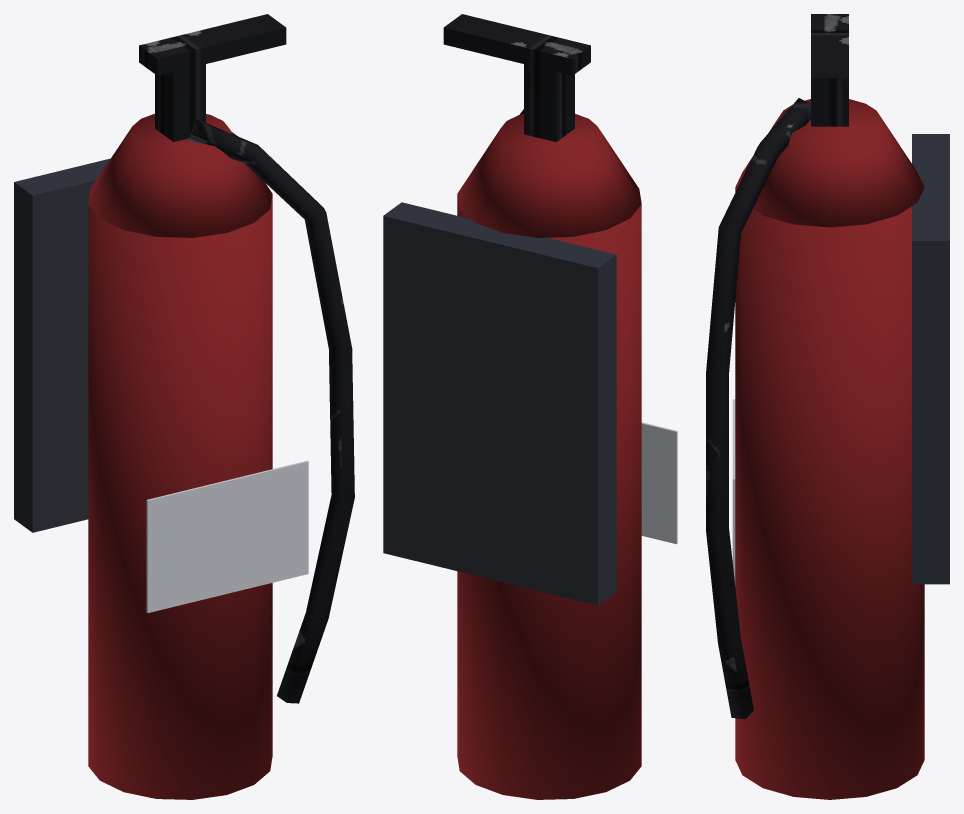
Rendered from Deco_Extinguisher.001.gltf.
3 renders of one model, left to right at view 1: azimuth 30°, elevation 25°; view 2: azimuth 150°, elevation 25°; view 3: azimuth 270°, elevation 25°, orthographic.
Parts seen in each view (by area): view 1: Deco_Extinguisher.001; view 2: Deco_Extinguisher.001; view 3: Deco_Extinguisher.001.
Boxes of the visible parts, x1,y1,x2,y2 form: Deco_Extinguisher.001: [14, 14, 354, 799]; Deco_Extinguisher.001: [383, 14, 677, 799]; Deco_Extinguisher.001: [706, 14, 949, 799].
Size of the model in its own units: 0.2095 by 0.6375 by 0.1931.
4 materials, 1 textured.
